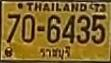0: (21, 14, 34, 42)
3: (76, 14, 90, 43)
4: (62, 14, 74, 43)
5: (91, 14, 105, 43)
6: (46, 14, 59, 42)
7: (6, 13, 19, 42)
RBR: (38, 45, 72, 63)
